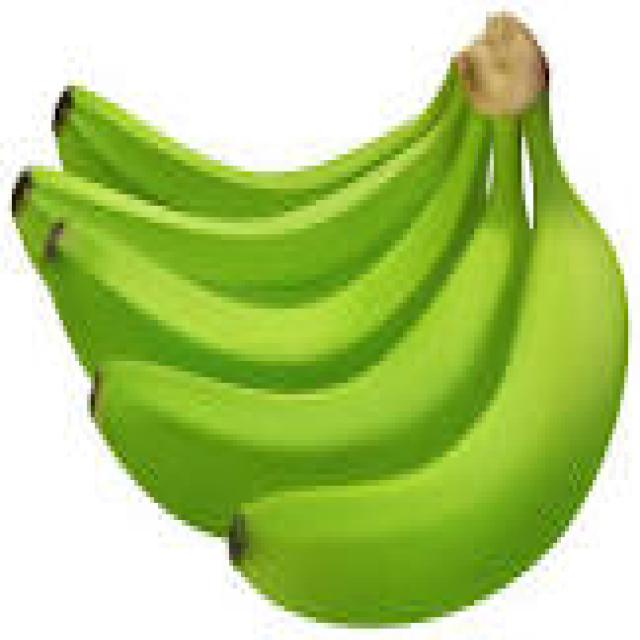banana: (230, 92, 628, 622), (91, 120, 529, 531), (16, 115, 489, 388), (20, 80, 466, 302), (56, 69, 454, 217)
